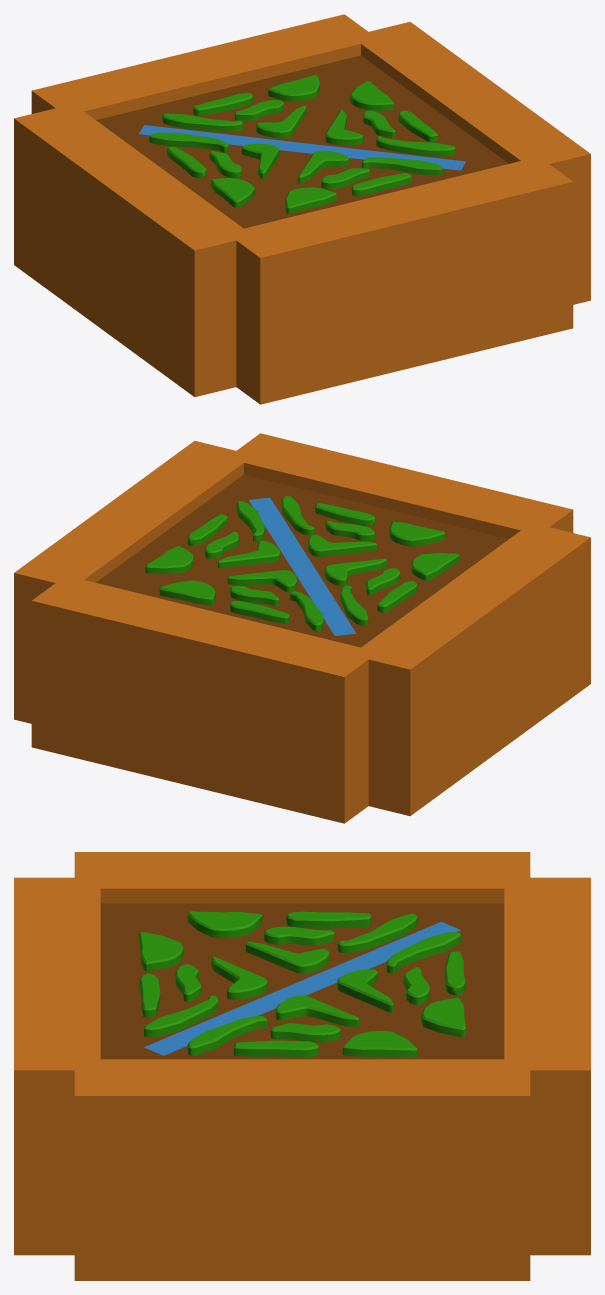
The model's file is moba.fbx.
3 views of the same model, one above another, from view 1: azimuth 30°, elevation 25°; view 2: azimuth 150°, elevation 25°; view 3: azimuth 270°, elevation 25° (orthographic). The views are drawn at different scales.
Parts seen in each view (by area): view 1: Cube_2, Cube_3, Plane, Connect, Cube_1, Cube_0, Plane_1; view 2: Cube_0, Cube_3, Plane, Connect, Cube_1, Cube_2, Plane_1; view 3: Cube_1, Plane, Cube_0, Cube_2, Connect, Cube_3, Plane_1.
Boxes of the visible parts, box(x1,y1,x2,y2) form: Cube_2: box(226, 157, 573, 404); Cube_3: box(14, 108, 253, 396); Plane: box(96, 55, 508, 228); Connect: box(149, 75, 455, 213); Cube_1: box(354, 22, 590, 304); Cube_0: box(31, 14, 378, 119); Plane_1: box(139, 125, 466, 170); Cube_0: box(31, 576, 377, 823); Cube_3: box(351, 523, 590, 815); Plane: box(96, 474, 508, 647); Connect: box(145, 495, 459, 631); Cube_1: box(14, 441, 253, 723); Cube_2: box(226, 433, 573, 538); Plane_1: box(249, 497, 355, 635); Cube_1: box(74, 1059, 530, 1280); Plane: box(100, 903, 504, 1059); Cube_0: box(504, 877, 590, 1255); Cube_2: box(14, 877, 100, 1255); Connect: box(138, 911, 466, 1057); Cube_3: box(74, 852, 530, 903); Plane_1: box(144, 921, 460, 1055).
Size of the model in its own units: 566 by 200 by 566.
